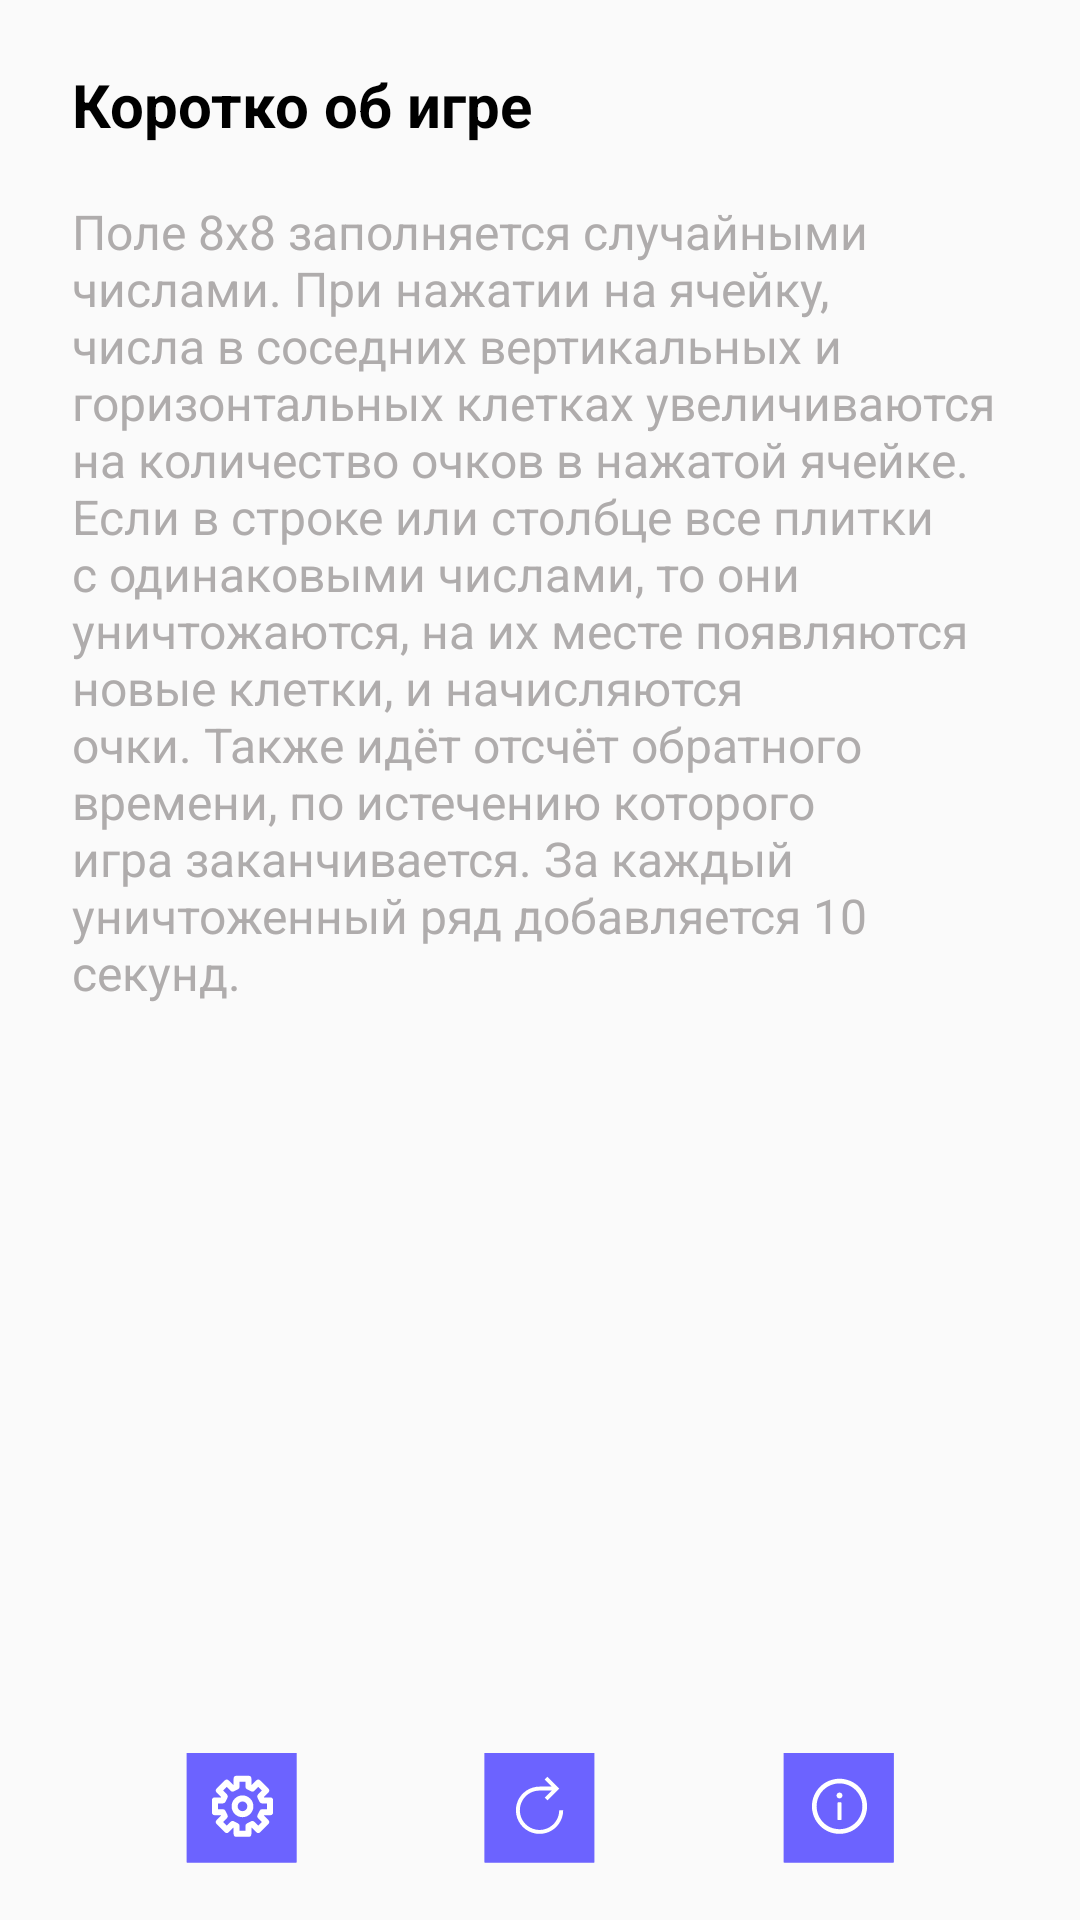

Icons on this 1080×1920 Android screen, each with its box as (x1, y1, x2, y2):
info: (783, 1753, 894, 1863)
restart: (484, 1753, 595, 1863)
settings: (186, 1753, 297, 1863)
